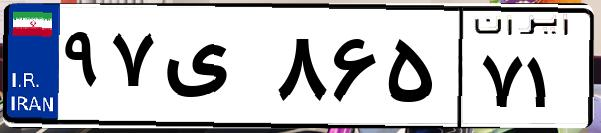1: (525, 38, 570, 115)
5: (385, 28, 445, 110)
6: (330, 28, 385, 110)
7: (475, 38, 525, 113), (110, 28, 158, 98)
8: (270, 28, 330, 110)
9: (57, 26, 110, 100)
ی: (158, 20, 270, 120)
